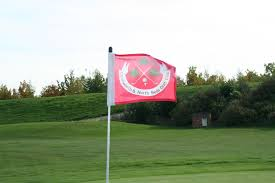Flag: (107, 47, 177, 104)
